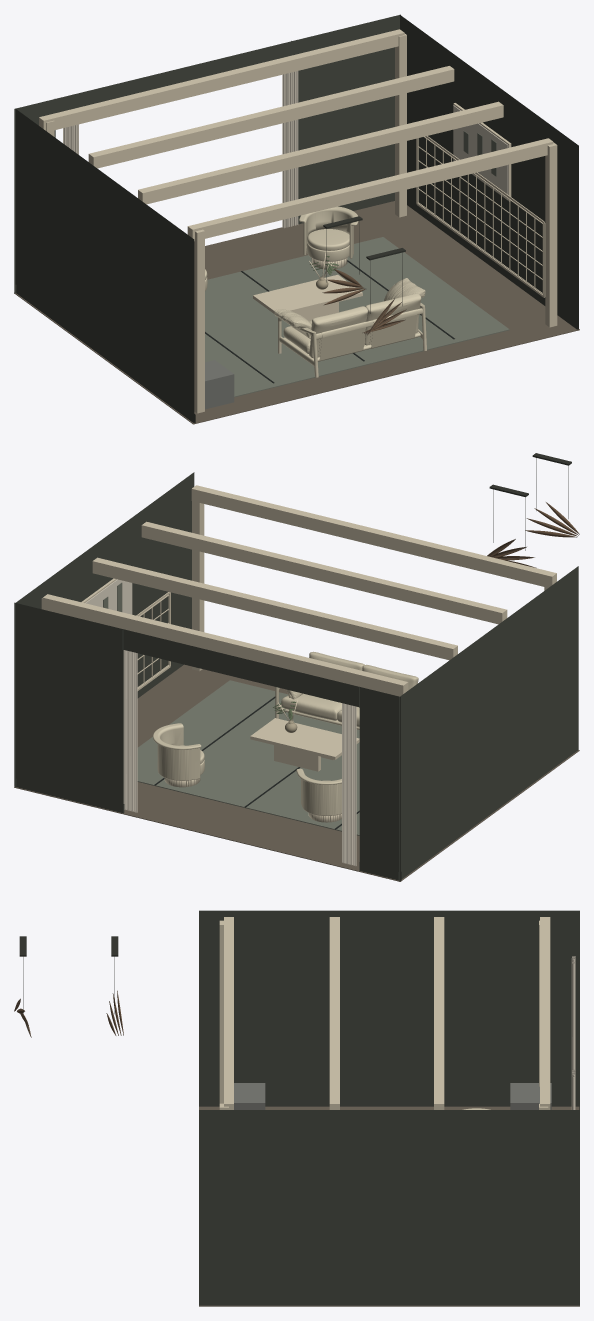
File: great-3.glb
The picture shows the model from 3 angles, top to bottom: view 1: azimuth 30°, elevation 25°; view 2: azimuth 150°, elevation 25°; view 3: azimuth 270°, elevation 25°; orthographic projection. The views are drawn at different scales.
Parts seen in each view (by area): view 1: DESIGN | great removable wall finish, DESIGN | Great room primary ground, DESIGN | great floor finish, DESIGN | Great room sofa facing conversation, DESIGN | Great room timber ceiling member.002, DESIGN | Great room timber ceiling member.001, DESIGN | Great room timber ceiling member.003, DESIGN | Great room timber ceiling member, DESIGN | Kumiko | Great room low craft datum, DESIGN | Required Bellustar swivel chair two, DESIGN | Great room timber end post.002, DESIGN | Great room conversation table top (+6 smaller); view 2: DESIGN | great removable wall finish, DESIGN | Great room primary ground, DESIGN | great floor finish, DESIGN | Great room timber ceiling member.001, DESIGN | Great room timber ceiling member.002, DESIGN | Great room timber ceiling member, DESIGN | Great room timber ceiling member.003, DESIGN | Great room sofa facing conversation, DESIGN | Great room soft window edge, DESIGN | Required Bellustar swivel chair two, DESIGN | Great room soft window edge.001, DESIGN | Great room conversation table top (+6 smaller); view 3: DESIGN | great removable wall finish, DESIGN | Great room timber ceiling member.001, DESIGN | Great room timber ceiling member.002, DESIGN | Great room timber ceiling member.003, DESIGN | Great room timber ceiling member, DESIGN | great floor finish, DESIGN | Great room timber end post, DESIGN | Great room low stone display, DESIGN | Great room low stone display.001, DESIGN | Great room soft window edge.
Boxes of the visible parts, x1,y1,x2,y2 form: DESIGN | great removable wall finish: [14, 14, 578, 423]; DESIGN | Great room primary ground: [205, 237, 509, 397]; DESIGN | great floor finish: [14, 201, 579, 424]; DESIGN | Great room sofa facing conversation: [274, 278, 426, 377]; DESIGN | Great room timber ceiling member.002: [88, 66, 454, 168]; DESIGN | Great room timber ceiling member.001: [138, 101, 503, 204]; DESIGN | Great room timber ceiling member.003: [39, 29, 404, 130]; DESIGN | Great room timber ceiling member: [187, 138, 553, 241]; DESIGN | Kumiko | Great room low craft datum: [416, 136, 545, 297]; DESIGN | Required Bellustar swivel chair two: [299, 206, 358, 269]; DESIGN | Great room timber end post.002: [545, 142, 557, 327]; DESIGN | Great room conversation table top: [253, 274, 362, 313]; DESIGN | great removable wall finish: [14, 472, 578, 880]; DESIGN | Great room primary ground: [137, 680, 359, 835]; DESIGN | great floor finish: [14, 664, 579, 881]; DESIGN | Great room timber ceiling member.001: [141, 521, 507, 624]; DESIGN | Great room timber ceiling member.002: [92, 557, 457, 660]; DESIGN | Great room timber ceiling member: [191, 485, 556, 587]; DESIGN | Great room timber ceiling member.003: [42, 594, 408, 696]; DESIGN | Great room sofa facing conversation: [275, 651, 418, 729]; DESIGN | Great room soft window edge: [342, 703, 356, 866]; DESIGN | Required Bellustar swivel chair two: [153, 723, 204, 787]; DESIGN | Great room soft window edge.001: [123, 650, 137, 812]; DESIGN | Great room conversation table top: [250, 718, 359, 759]; DESIGN | great removable wall finish: [199, 910, 579, 1305]; DESIGN | Great room timber ceiling member.001: [329, 917, 339, 1109]; DESIGN | Great room timber ceiling member.002: [434, 917, 444, 1109]; DESIGN | Great room timber ceiling member.003: [540, 917, 550, 1109]; DESIGN | Great room timber ceiling member: [224, 917, 233, 1109]; DESIGN | great floor finish: [199, 1106, 579, 1306]; DESIGN | Great room timber end post: [219, 920, 223, 1103]; DESIGN | Great room low stone display: [234, 1083, 265, 1109]; DESIGN | Great room low stone display.001: [510, 1083, 551, 1109]; DESIGN | Great room soft window edge: [571, 956, 575, 1070].
Size of the model in its own units: 6 by 3.04 by 7.16.
